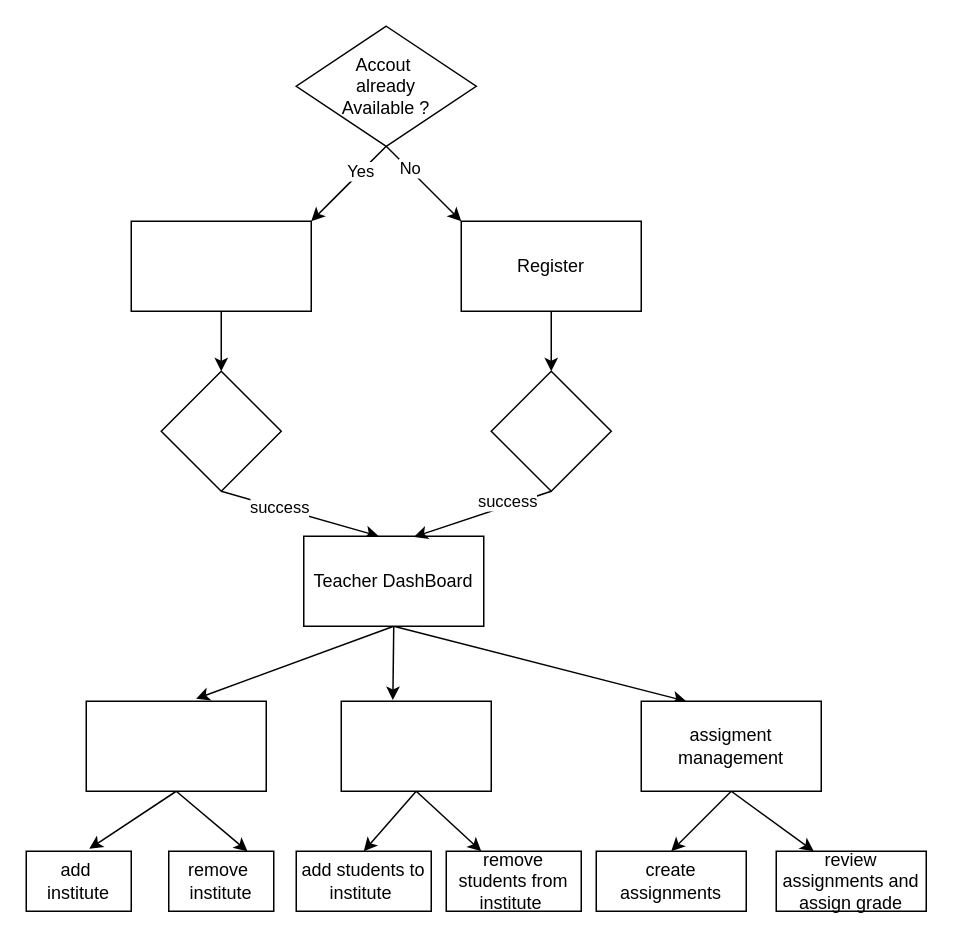
This 953x939 diagram has some shape labels left out. Each missing label, with the box of its shape:
Account Creation: (490, 370, 611, 491)
institute management: (85, 700, 266, 791)
Login: (130, 220, 311, 311)
Login Verification: (160, 370, 281, 491)
student management: (340, 700, 491, 791)
